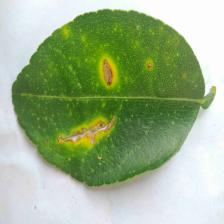canker: (55, 24, 167, 157)
